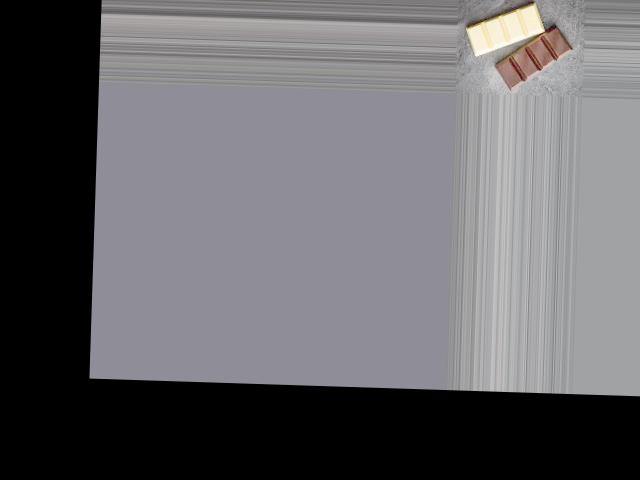chocolate: (459, 1, 573, 90)
